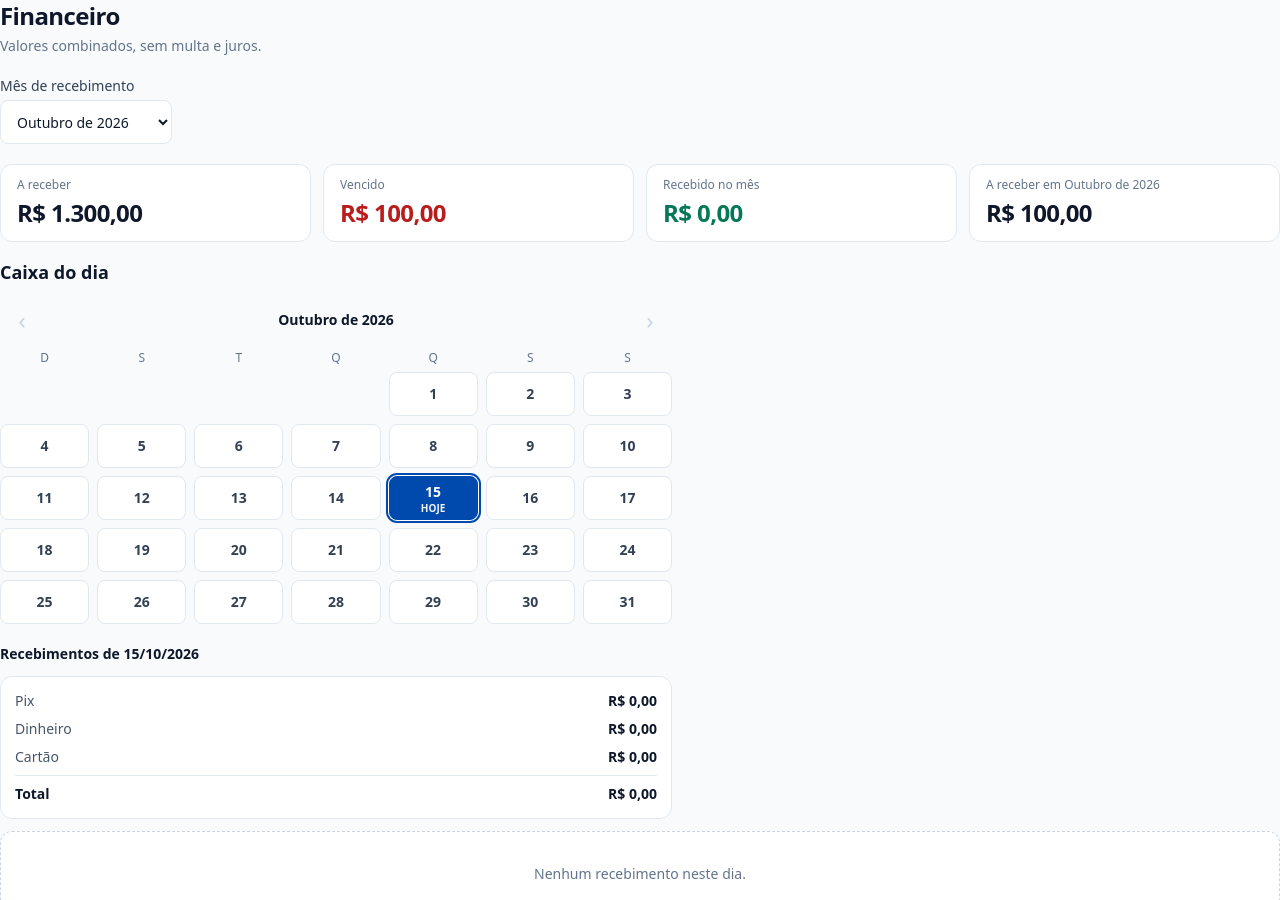
Test: FinanceiroPage — a receber no mês › venda em 13 vezes: outubro de 2027 é outro mês que outubro de 2026, e janeiro tem valor 01
Select "Janeiro de 2027" in the dropdown labelled "Mês de recebimento" at (86, 122), box [0,100,172,144]
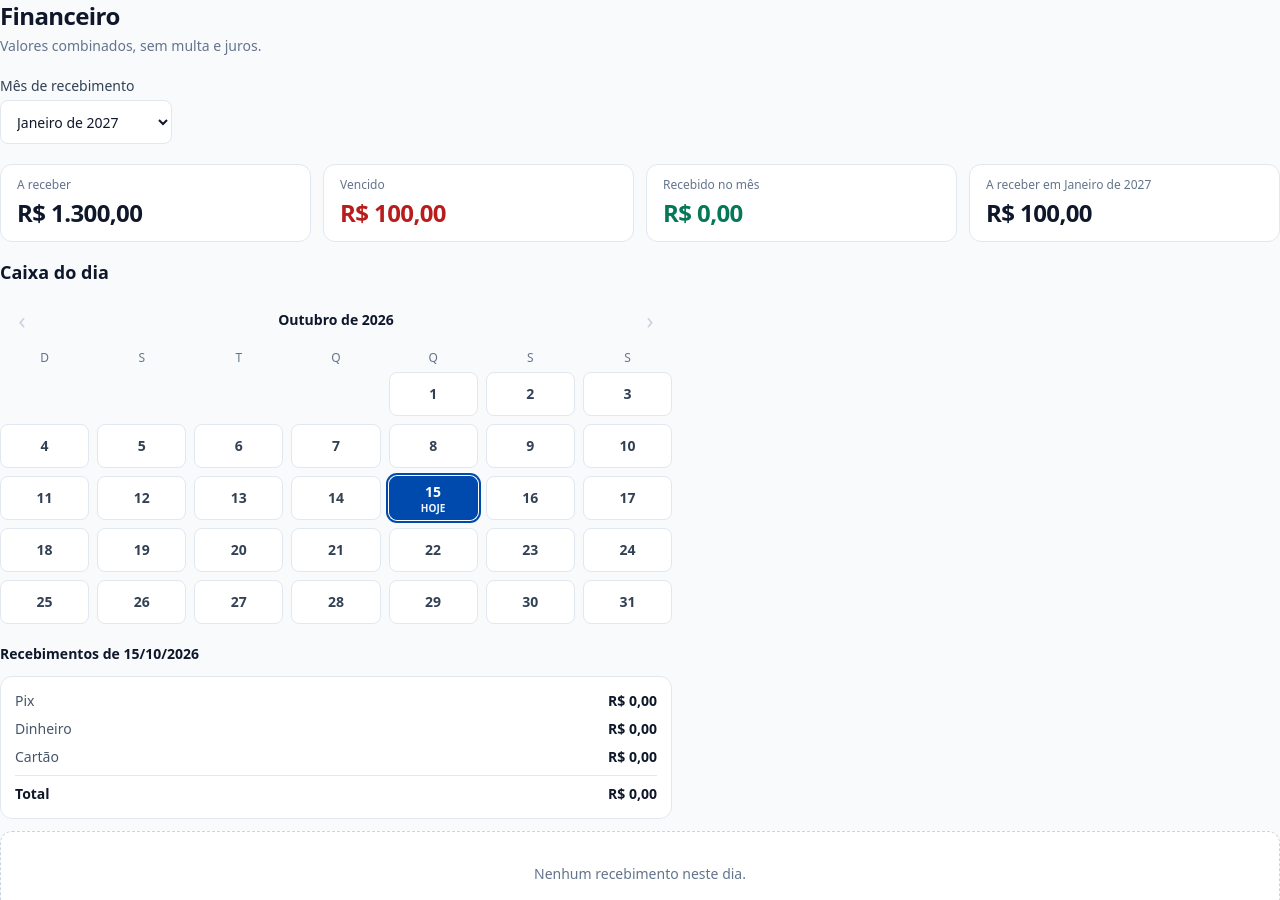
Select "Outubro de 2027" in the dropdown labelled "Mês de recebimento" at (86, 122), box [0,100,172,144]
(page scrolled)
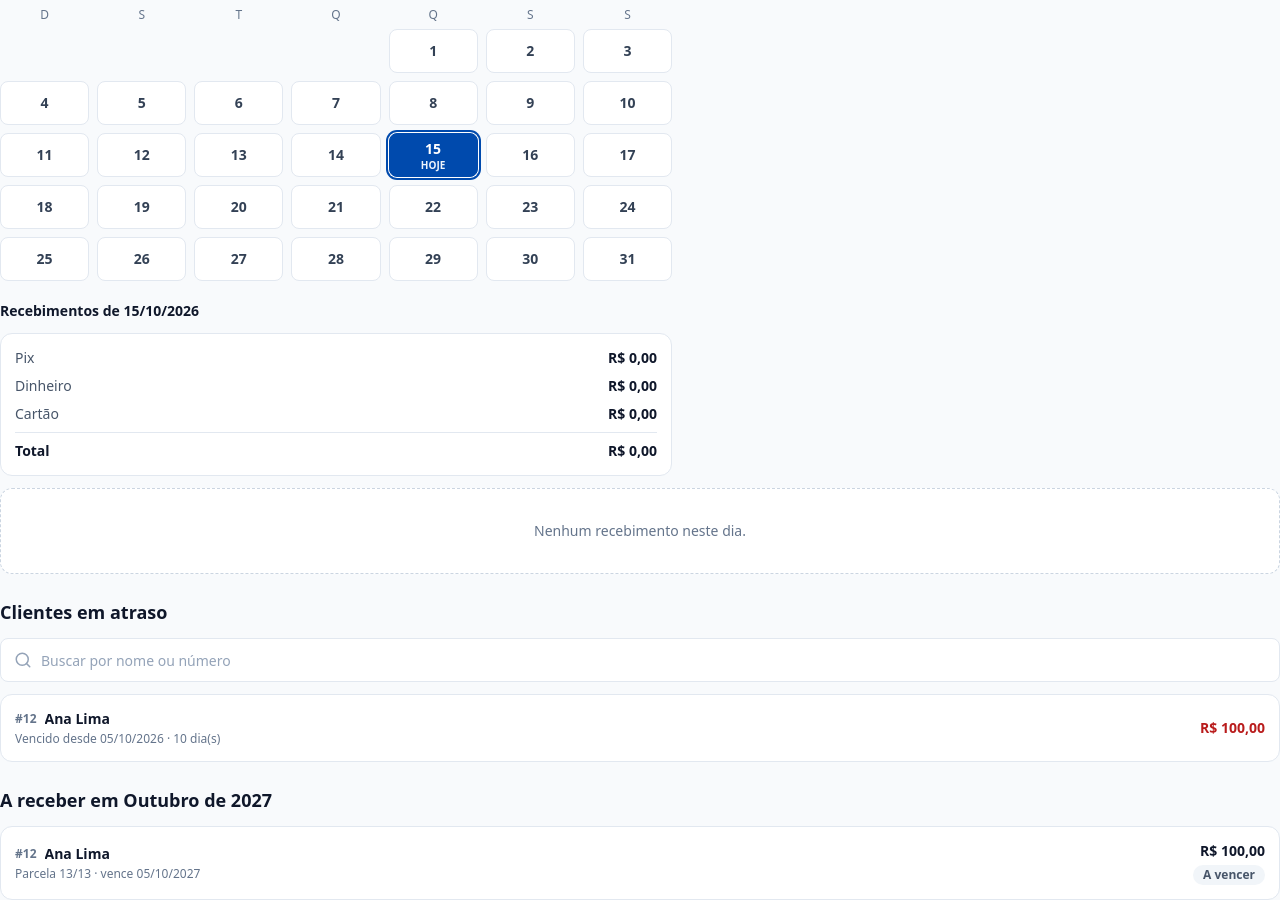
Check: the 2nd list item shows "Parcela 13/13", box [0,826,1279,899]
